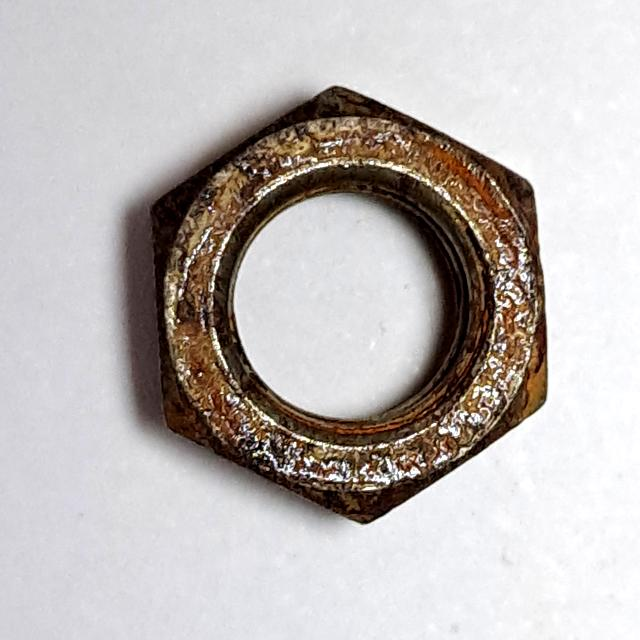Rust: (139, 70, 557, 550)
